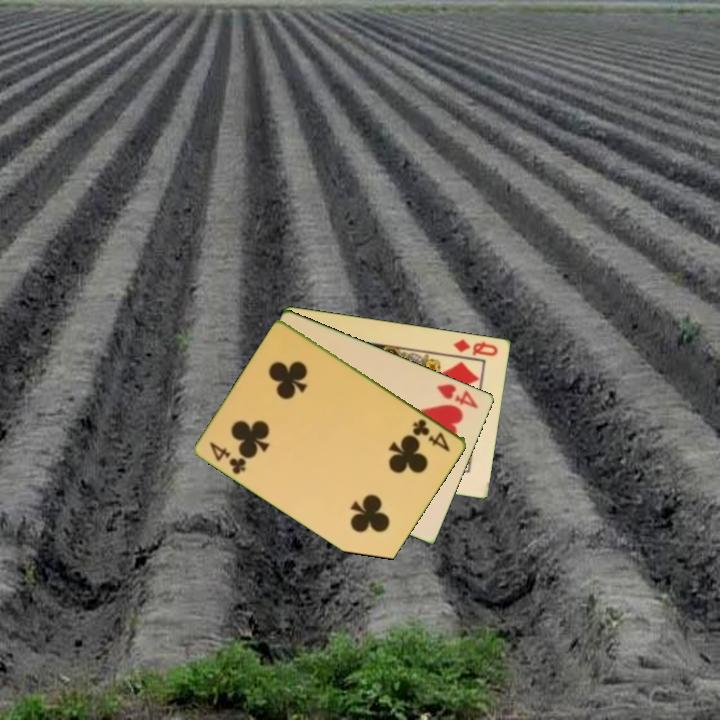4c: (409, 415, 454, 455), (206, 438, 250, 477)
4h: (434, 380, 482, 411)
Qd: (450, 335, 501, 359)
